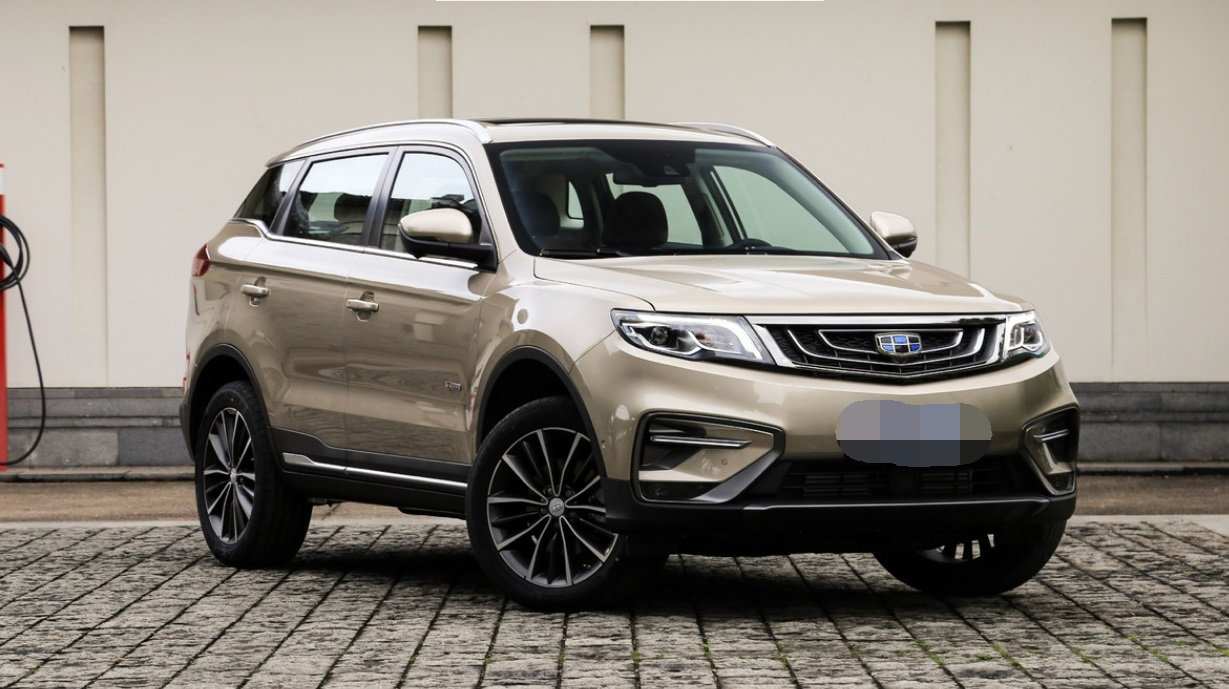SUV: (136, 116, 1098, 604)
